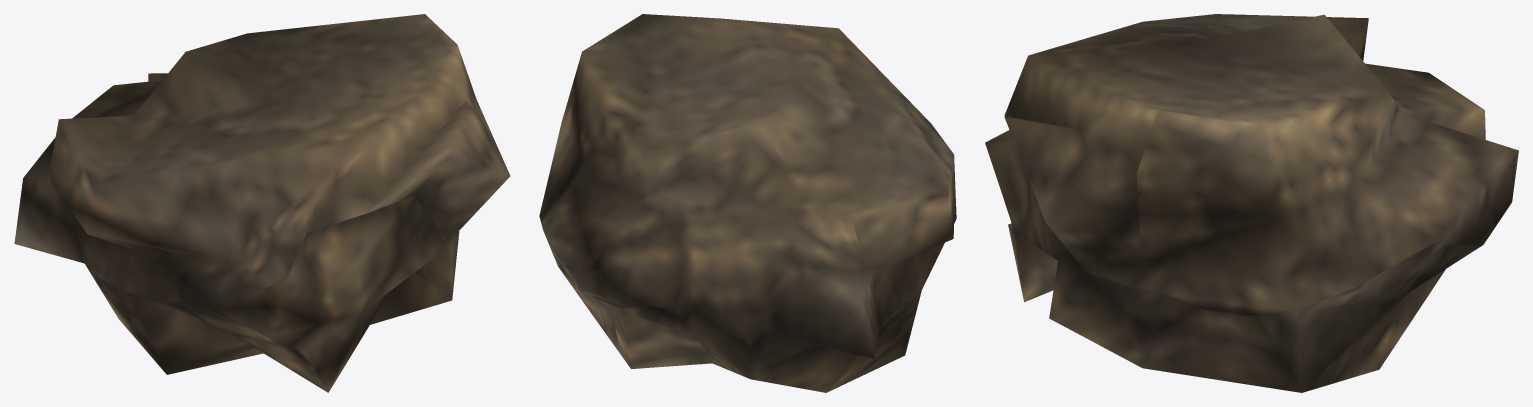
Rendered from Rock01_05.FBX.
3 renders of one model, left to right at view 1: azimuth 30°, elevation 25°; view 2: azimuth 150°, elevation 25°; view 3: azimuth 270°, elevation 25°, orthographic. The views are drawn at different scales.
Parts seen in each view (by area): view 1: Rock01_05; view 2: Rock01_05; view 3: Rock01_05.
Boxes of the visible parts, x1,y1,x2,y2 form: Rock01_05: (14,14,510,392); Rock01_05: (539,14,956,392); Rock01_05: (985,14,1518,392).
Size of the model in its own units: 156 by 105 by 165.
1 material, 1 textured.
